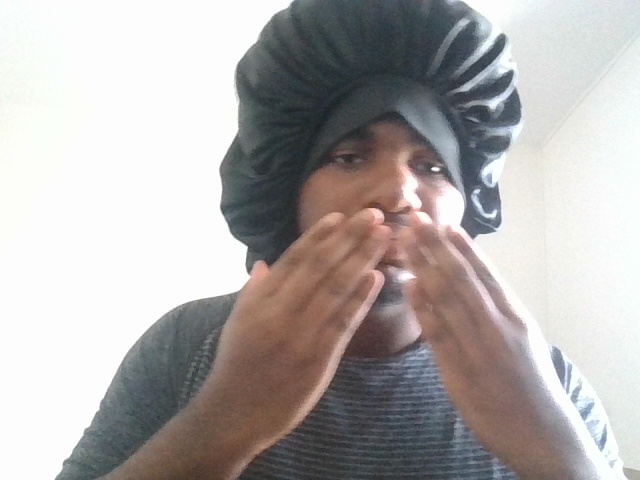Thank You: (143, 178, 640, 442)
